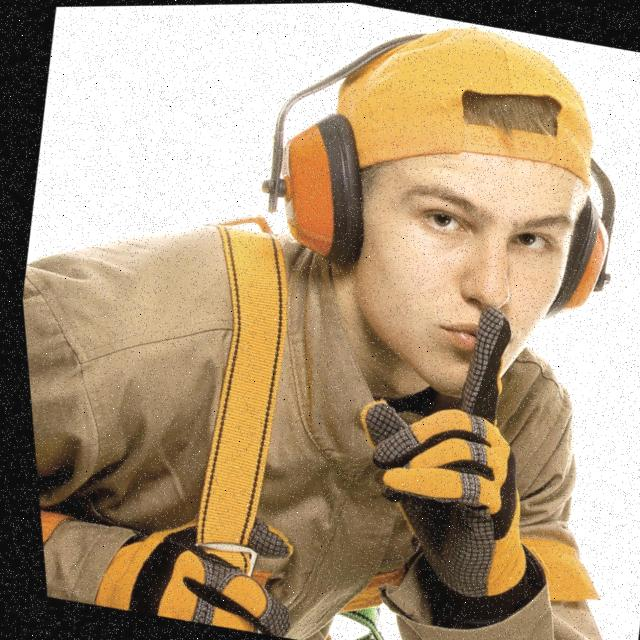Earmuffs: (285, 114, 363, 265), (549, 200, 608, 314)
Gloves: (362, 310, 547, 631), (95, 525, 290, 636)
No Hardhat: (337, 27, 592, 186)
